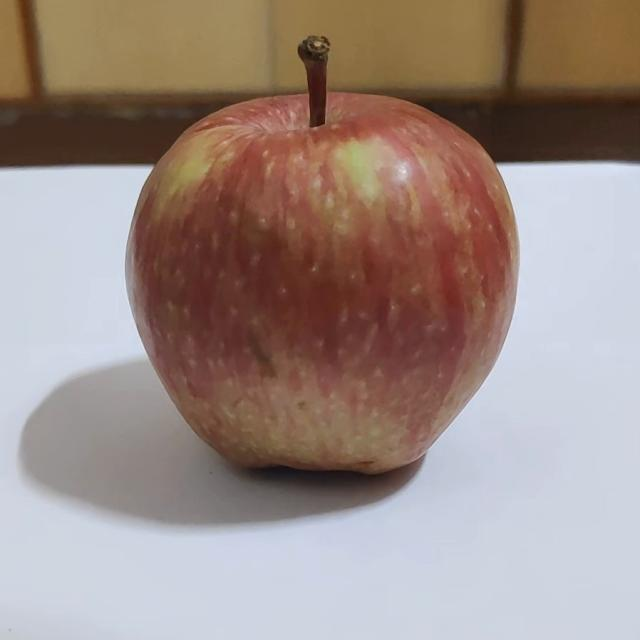apple: (124, 30, 522, 490)
